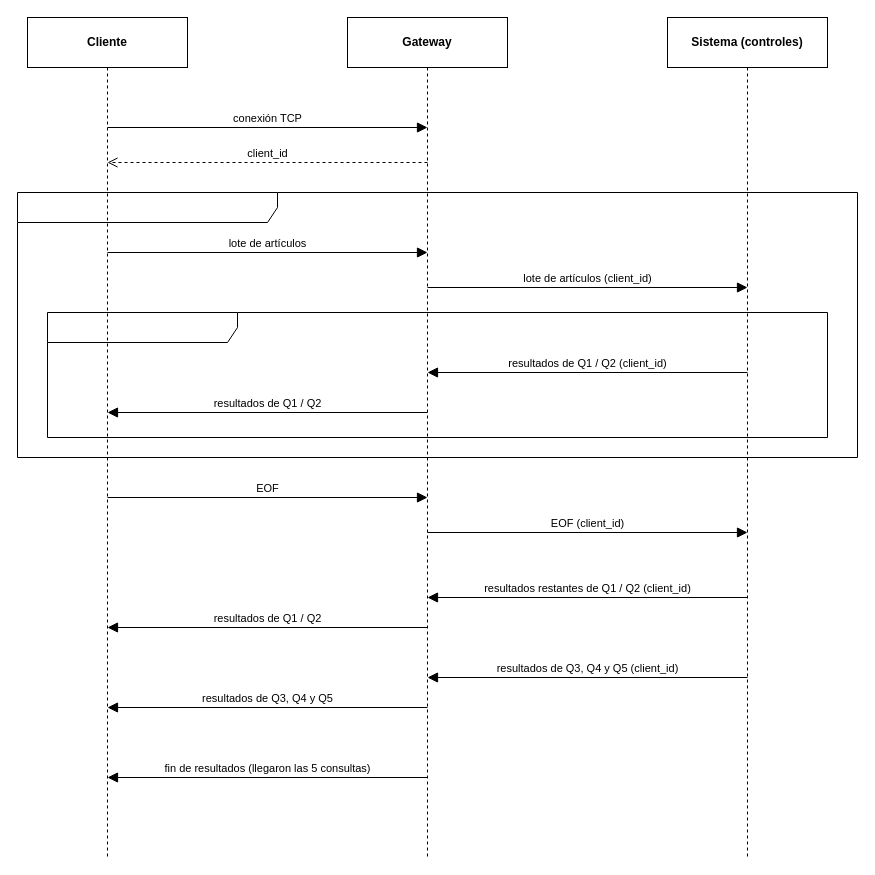
This 875x875 diagram has some shape labels left out. The shapes that lost their labels are listed below. From the top down, each one's box as (x1, y1, x2, y2) in pixels, then its label:
(16, 192, 858, 458): loop [hasta enviar todos los artículos]
(46, 312, 828, 438): opt [hay resultados listos]
